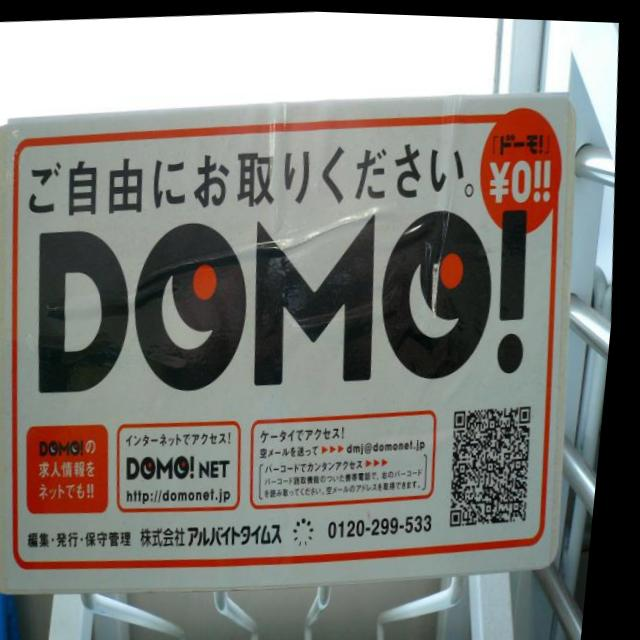qrcode: (453, 400, 547, 525)
